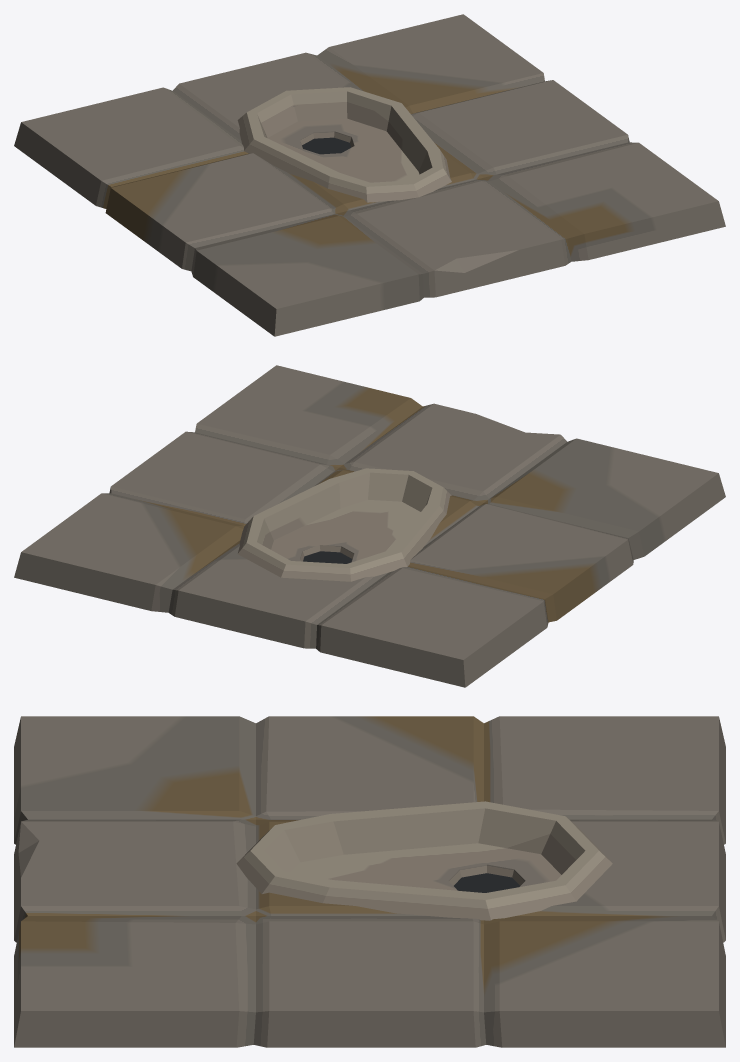
Rendered from SM_Prop_Toilet_Ground_01.fbx.
3 views of the same model, one above another, from view 1: azimuth 30°, elevation 25°; view 2: azimuth 150°, elevation 25°; view 3: azimuth 270°, elevation 25° (orthographic). The views are drawn at different scales.
Parts seen in each view (by area): view 1: SM_Prop_Toilet_Ground_01; view 2: SM_Prop_Toilet_Ground_01; view 3: SM_Prop_Toilet_Ground_01.
Boxes of the visible parts, x1,y1,x2,y2 form: SM_Prop_Toilet_Ground_01: (14,14,725,336); SM_Prop_Toilet_Ground_01: (14,365,725,687); SM_Prop_Toilet_Ground_01: (14,716,725,1047).
Bounding box in the file's own units: 174 × 12.59 × 174.
